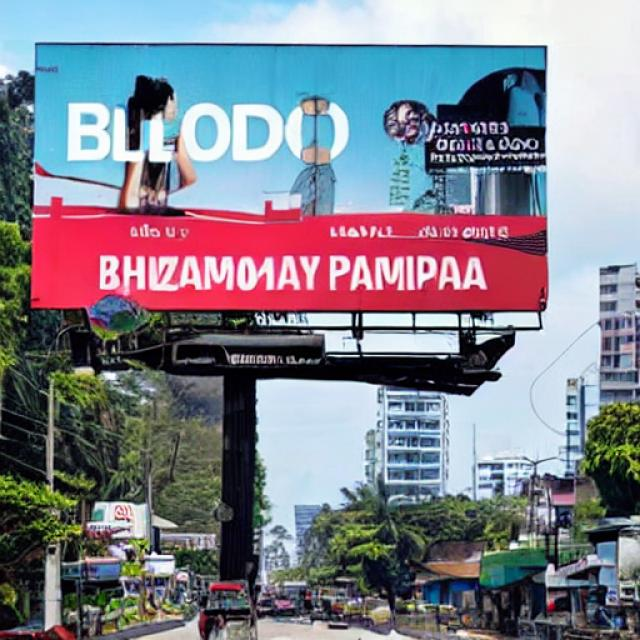Billboard: (29, 39, 552, 314)
